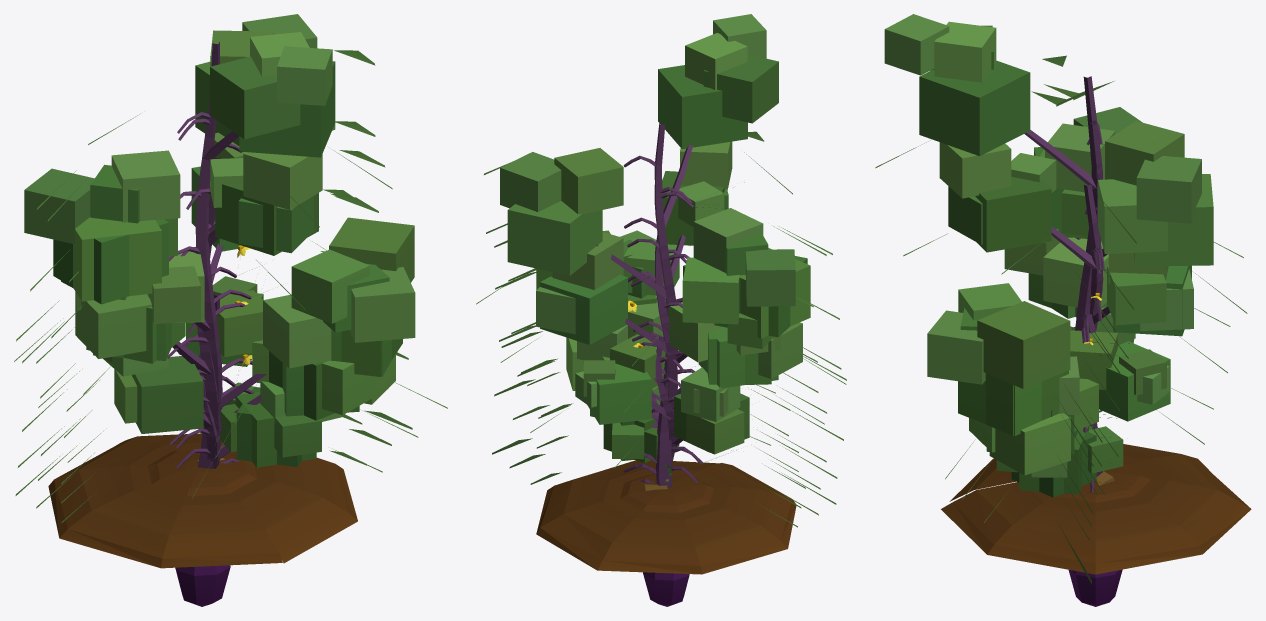
Rendered from eggplant.glb.
3 views of the same model, side by side, from view 1: azimuth 30°, elevation 25°; view 2: azimuth 150°, elevation 25°; view 3: azimuth 270°, elevation 25° (orthographic). The views are drawn at different scales.
Parts seen in each view (by area): view 1: stage4_foliage, stage2_soil, stage3_foliage, stage4_l1_foliage, stage2_foliage, stage3_l1_foliage, stage2_l1_foliage, stage0_soil, stage4_stem, stage4_l1_stem, fruit_fruit, stage3_stem (+6 smaller); view 2: stage4_foliage, stage2_soil, stage3_foliage, stage2_foliage, stage4_l1_foliage, stage3_l1_foliage, stage4_stem, stage0_soil, stage4_l1_stem, stage3_stem, fruit_fruit, stage4_leaf (+7 smaller); view 3: stage4_foliage, stage3_foliage, stage2_soil, stage4_l1_foliage, stage2_foliage, stage3_l1_foliage, stage4_stem, stage0_soil, stage3_stem, fruit_fruit, stage2_l1_foliage, stage4_leaf (+3 smaller).
Boxes of the visible parts, x1,y1,x2,y2 form: stage4_foliage: [24, 14, 391, 376]; stage2_soil: [48, 433, 357, 568]; stage3_foliage: [61, 132, 395, 420]; stage4_l1_foliage: [53, 164, 415, 376]; stage2_foliage: [103, 276, 341, 466]; stage3_l1_foliage: [75, 266, 378, 416]; stage2_l1_foliage: [235, 381, 321, 467]; stage0_soil: [147, 450, 256, 495]; stage4_stem: [167, 42, 266, 468]; stage4_l1_stem: [169, 46, 259, 468]; fruit_fruit: [175, 565, 230, 606]; stage3_stem: [169, 156, 260, 448]; stage4_foliage: [500, 14, 810, 342]; stage2_soil: [536, 460, 796, 574]; stage3_foliage: [536, 141, 780, 391]; stage2_foliage: [575, 334, 749, 460]; stage4_l1_foliage: [602, 230, 807, 337]; stage3_l1_foliage: [577, 322, 802, 384]; stage4_stem: [596, 125, 694, 485]; stage0_soil: [620, 473, 714, 512]; stage4_l1_stem: [627, 123, 691, 487]; stage3_stem: [623, 234, 702, 473]; fruit_fruit: [643, 572, 689, 606]; stage4_leaf: [476, 131, 846, 504]; stage4_foliage: [884, 14, 1213, 435]; stage3_foliage: [939, 142, 1193, 475]; stage2_soil: [941, 444, 1251, 574]; stage4_l1_foliage: [927, 124, 1101, 435]; stage2_foliage: [1011, 307, 1170, 497]; stage3_l1_foliage: [969, 229, 1107, 452]; stage4_stem: [1024, 77, 1107, 480]; stage0_soil: [1058, 462, 1150, 502]; stage3_stem: [1051, 185, 1110, 492]; fruit_fruit: [1068, 569, 1122, 606]; stage2_l1_foliage: [996, 426, 1088, 494]; stage4_leaf: [875, 55, 1247, 514].
Size of the model in its own units: 0.7964 by 1.15 by 0.6706.
